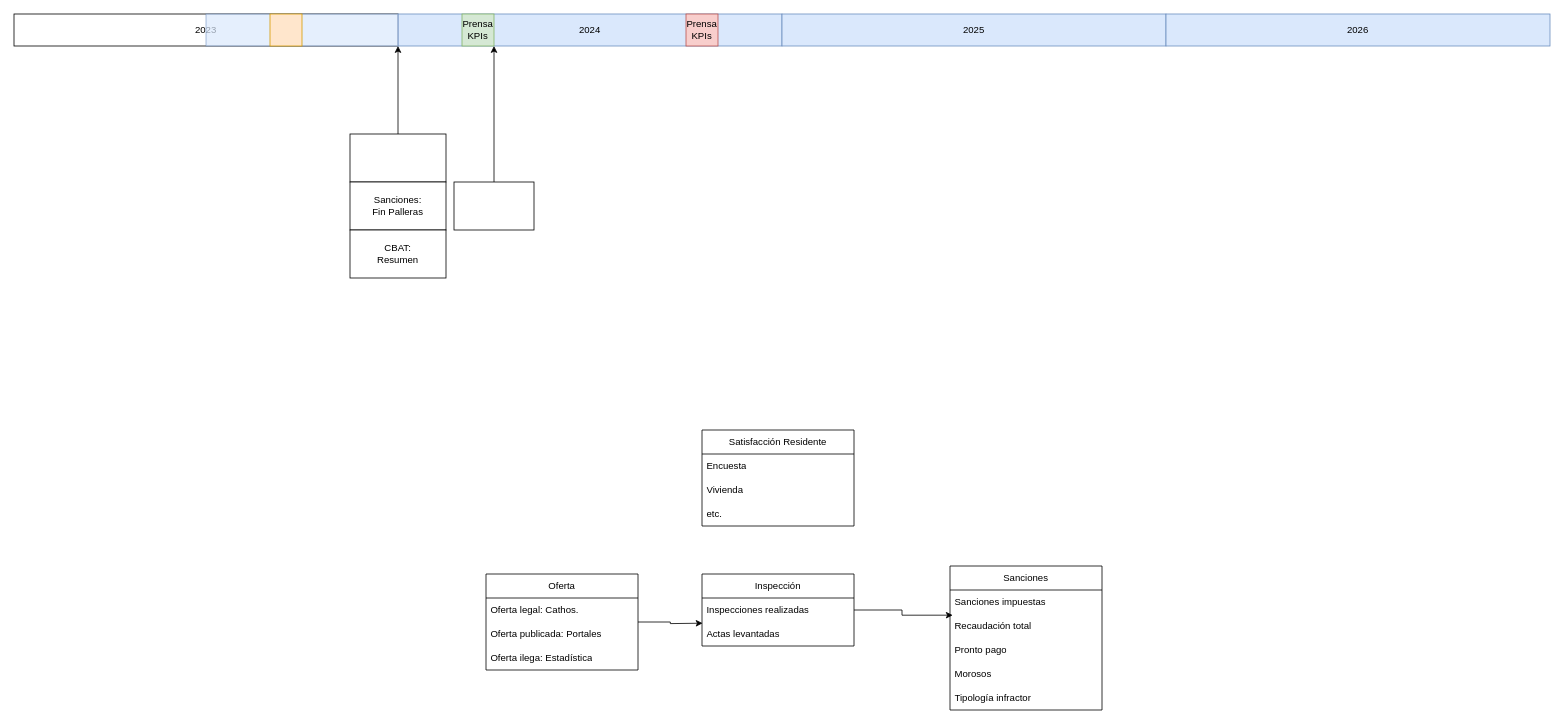
Image size: 1564x724. Some labels were removed from this diagram. Each missing label, with the centre of its shape:
"Inicio KPIs" goes at [285,29].
"Inspección: Hoja inspecciones" goes at [397,157].
"Sanciones: Inicio Jesús" goes at [493,205].
